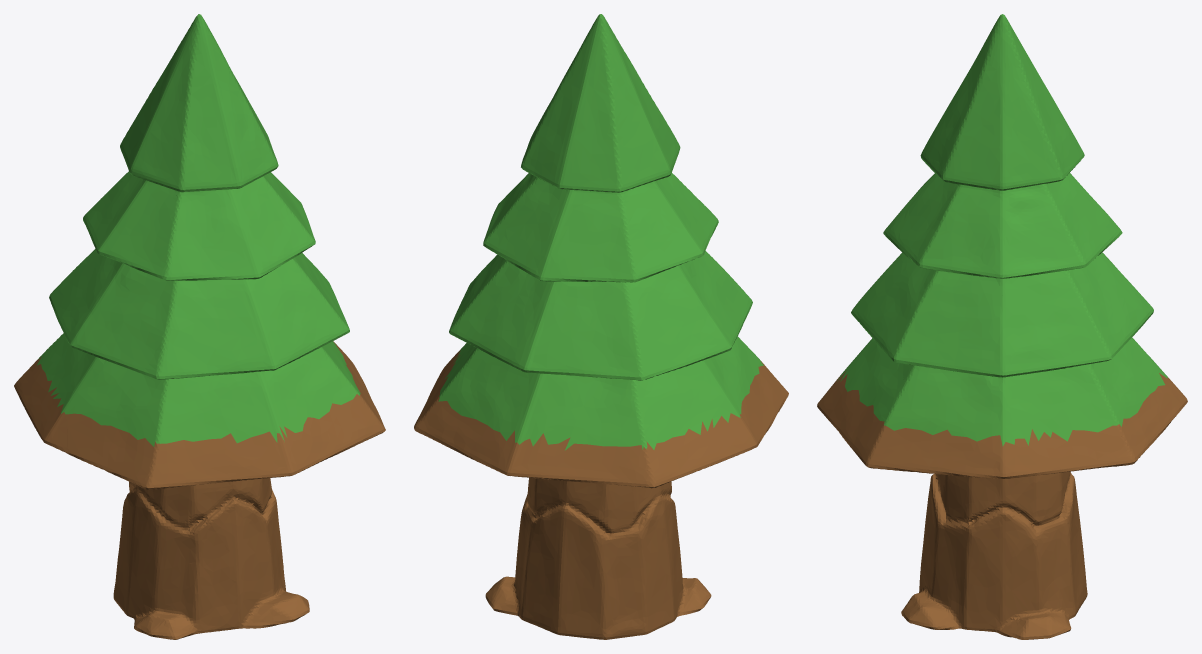
The model's file is tree.glb.
The picture shows the model from 3 angles, left to right: view 1: azimuth 30°, elevation 25°; view 2: azimuth 150°, elevation 25°; view 3: azimuth 270°, elevation 25°; orthographic projection.
Visible parts, largest first — view 1: world; view 2: world; view 3: world.
Boxes of the visible parts, box(x1,y1,x2,y2) form: world: box(14, 14, 385, 639); world: box(414, 14, 788, 639); world: box(817, 14, 1187, 639).
Size of the model in its own units: 1.08 by 1.96 by 1.13.
